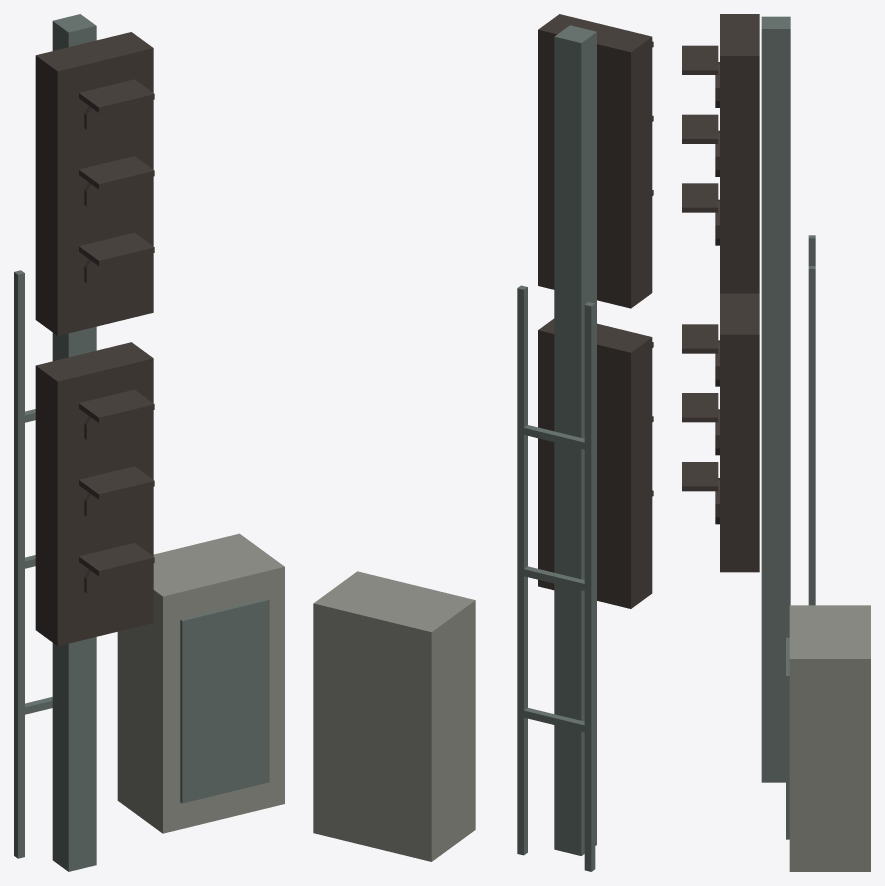
Rendered from SM_senal_via_v5_LOD0.fbx.
3 views of the same model, side by side, from view 1: azimuth 30°, elevation 25°; view 2: azimuth 150°, elevation 25°; view 3: azimuth 270°, elevation 25° (orthographic). The views are drawn at different scales.
Visible parts, largest first — view 1: SM_bloques.senal_via_v5_LOD0; view 2: SM_bloques.senal_via_v5_LOD0; view 3: SM_bloques.senal_via_v5_LOD0.
Part boxes in pixels (bbox=[...]): SM_bloques.senal_via_v5_LOD0: bbox=[14, 14, 284, 871]; SM_bloques.senal_via_v5_LOD0: bbox=[313, 14, 653, 871]; SM_bloques.senal_via_v5_LOD0: bbox=[682, 14, 870, 871].
Size of the model in its own units: 1.53 by 4.6 by 1.04.
